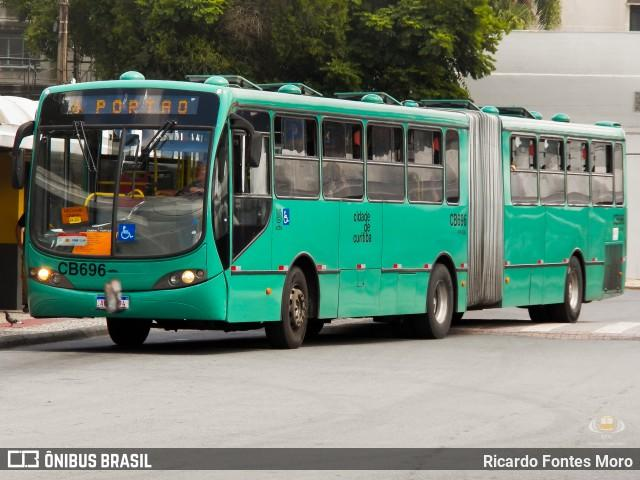PORTAO: (91, 93, 194, 117)
